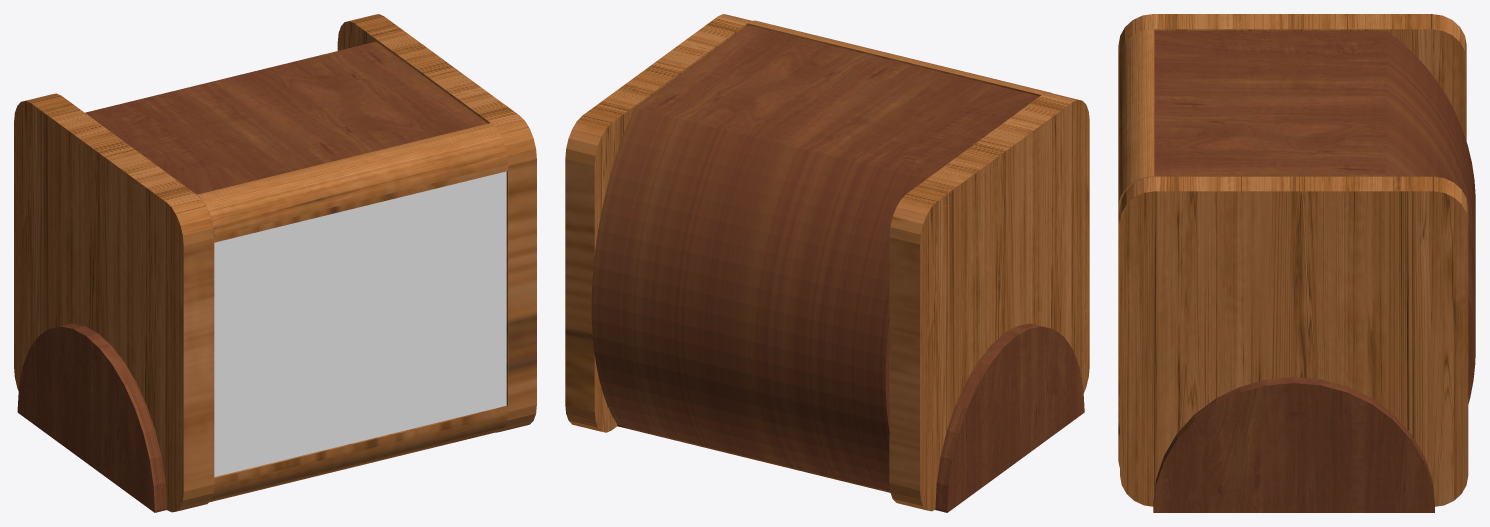
3 renders of one model, left to right at view 1: azimuth 30°, elevation 25°; view 2: azimuth 150°, elevation 25°; view 3: azimuth 270°, elevation 25°, orthographic. The views are drawn at different scales.
Parts seen in each view (by area): view 1: box, window, open, decor; view 2: open, box, decor; view 3: box, open, decor.
Part boxes in pixels (box(x1,y1,x2,y2)): box: box(14, 14, 536, 512); window: box(214, 171, 506, 476); open: box(85, 41, 487, 194); decor: box(17, 323, 166, 512); open: box(591, 25, 1039, 491); box: box(565, 14, 1089, 511); decor: box(935, 323, 1084, 512); box: box(1118, 14, 1468, 506); open: box(1154, 31, 1475, 403); decor: box(1153, 377, 1434, 512).
Bounding box in the file's own units: 2.57 × 2 × 2.05.
5 materials, 4 textured.
